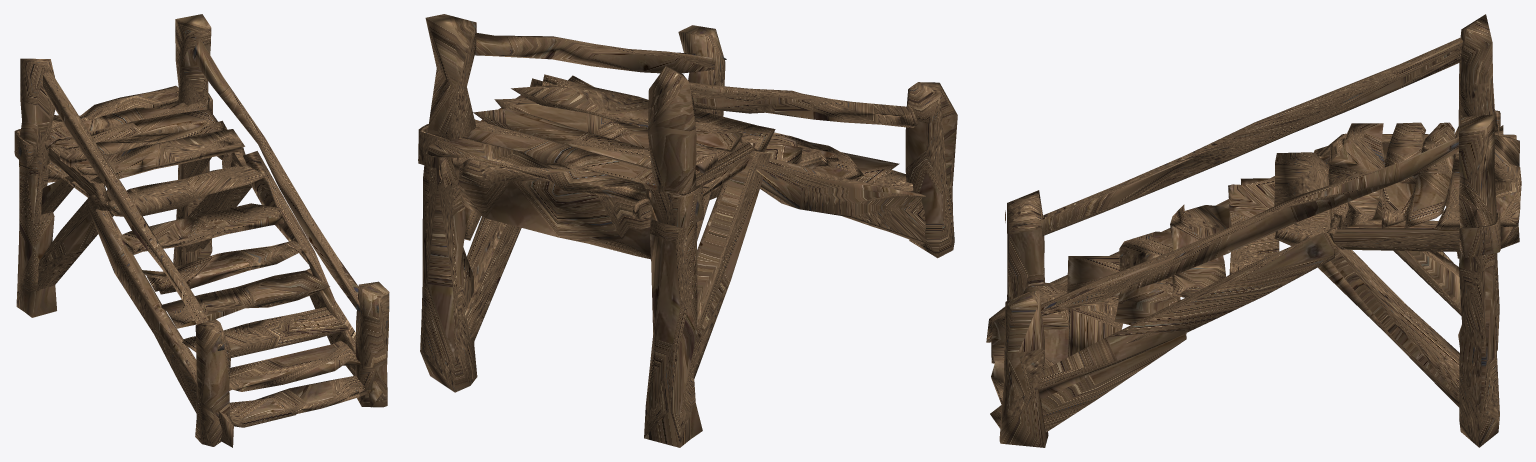
The model's file is wooden_stairs.glb.
The picture shows the model from 3 angles, left to right: view 1: azimuth 30°, elevation 25°; view 2: azimuth 150°, elevation 25°; view 3: azimuth 270°, elevation 25°; orthographic projection. The views are drawn at different scales.
Size of the model in its own units: 0.4925 by 0.6285 by 0.9502.
Materials: 1 (1 with a texture image).
